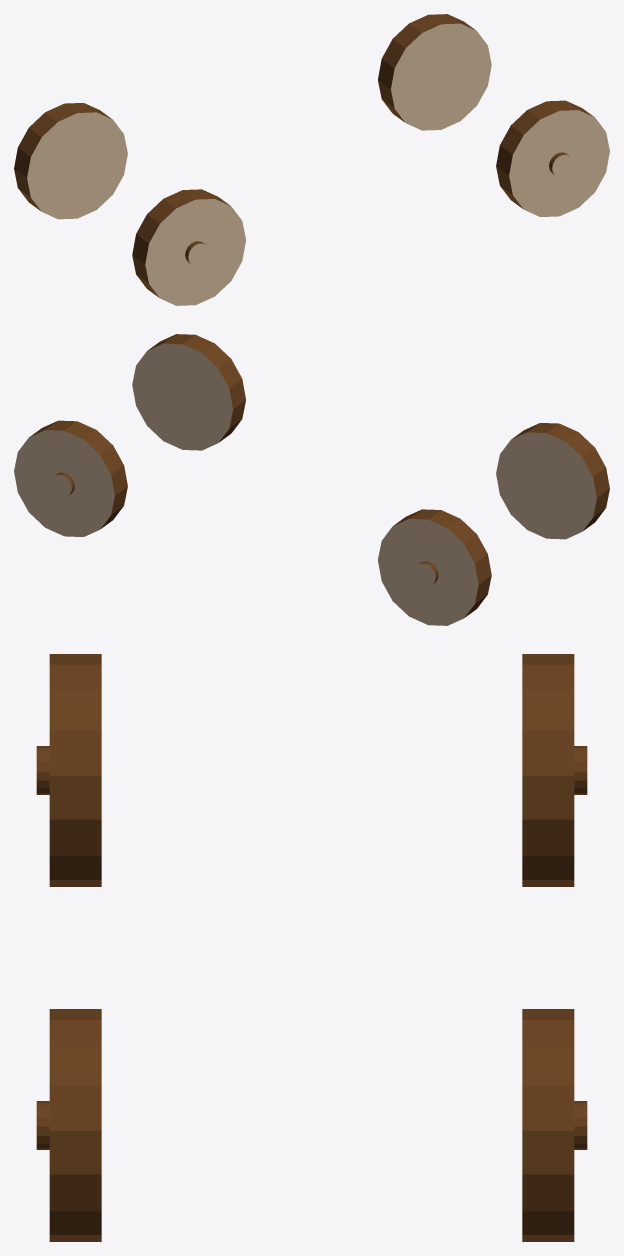
File: VanWheels.fbx
The picture shows the model from 3 angles, top to bottom: view 1: azimuth 30°, elevation 25°; view 2: azimuth 150°, elevation 25°; view 3: azimuth 270°, elevation 25°; orthographic projection. The views are drawn at different scales.
Visible parts, largest first — view 1: Wheel_FR, Wheel_RL, Wheel_FL, Wheel_RR; view 2: Wheel_FL, Wheel_RR, Wheel_FR, Wheel_RL; view 3: Wheel_FL, Wheel_FR, Wheel_RL, Wheel_RR.
Part boxes in pixels (<box>): Wheel_FR: <box>14,103,127,219</box>; Wheel_RL: <box>496,100,609,216</box>; Wheel_FL: <box>132,189,245,305</box>; Wheel_RR: <box>378,14,491,130</box>; Wheel_FL: <box>496,423,609,539</box>; Wheel_RR: <box>14,420,127,536</box>; Wheel_FR: <box>378,509,491,625</box>; Wheel_RL: <box>132,334,245,450</box>; Wheel_FL: <box>36,654,101,886</box>; Wheel_FR: <box>522,654,587,886</box>; Wheel_RL: <box>36,1009,101,1241</box>; Wheel_RR: <box>522,1009,587,1241</box>.
Size of the model in its own units: 460 by 99.95 by 236.
